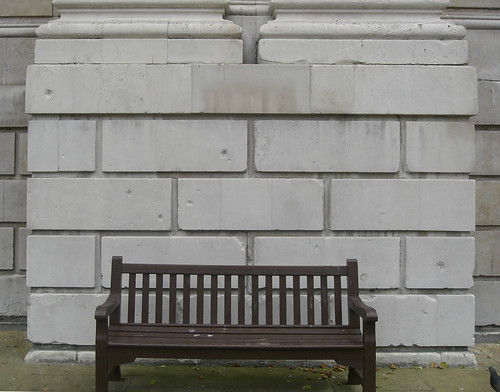bench: (97, 256, 379, 392)
